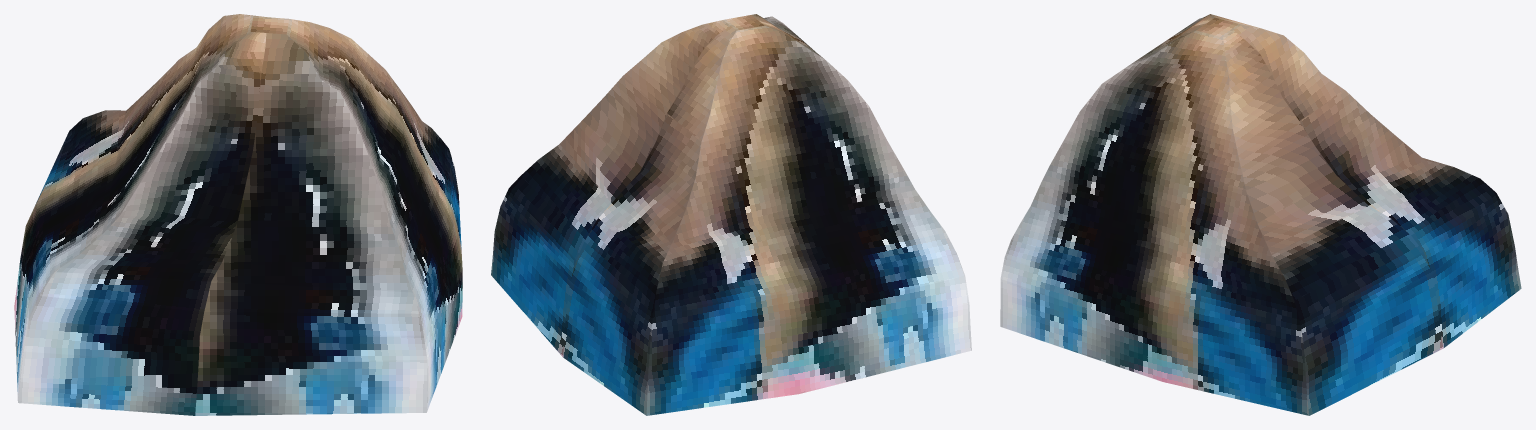
3 views of the same model, side by side, from view 1: azimuth 30°, elevation 25°; view 2: azimuth 150°, elevation 25°; view 3: azimuth 270°, elevation 25° (orthographic). The views are drawn at different scales.
Visible parts, largest first — view 1: SPLICE_1.002; view 2: SPLICE_1.002; view 3: SPLICE_1.002.
Boxes of the visible parts, left/top/right/bottom form: SPLICE_1.002: left=14, top=14, right=462, bottom=415; SPLICE_1.002: left=491, top=14, right=971, bottom=415; SPLICE_1.002: left=1000, top=14, right=1521, bottom=415.
Size of the model in its own units: 1.23 by 0.7505 by 1.23.
Materials: 1 (1 with a texture image).
